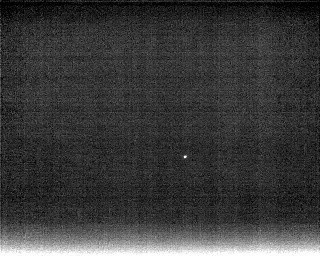BIRD: (181, 152, 189, 161)
